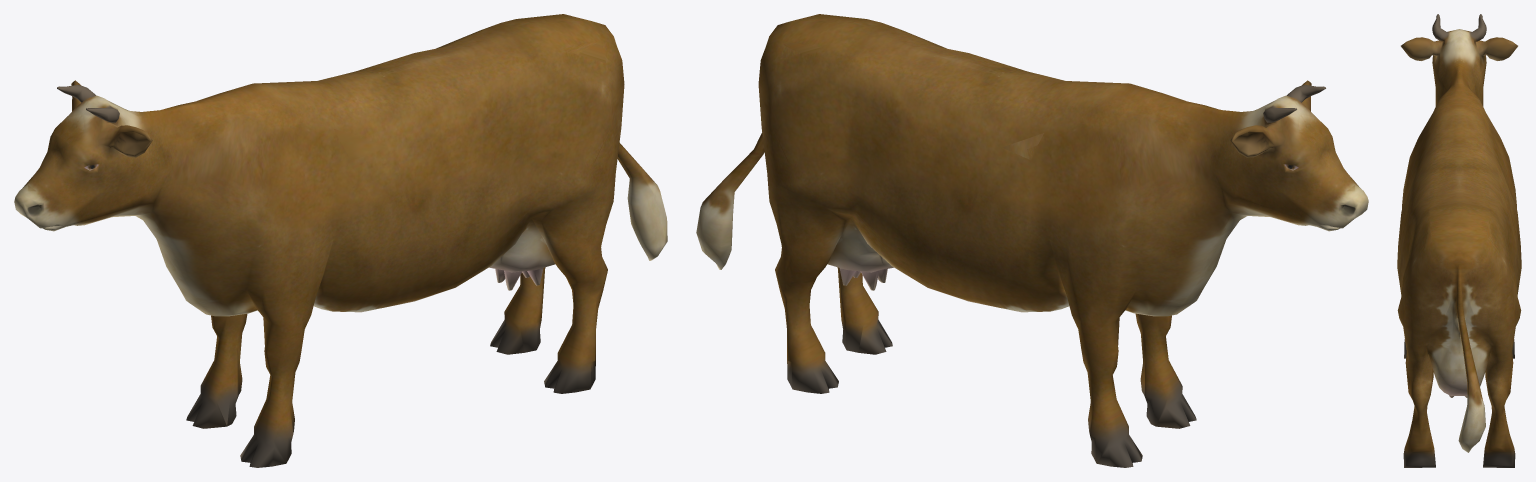
File: ZnamenskiMonastir.glb
3 views of the same model, side by side, from view 1: azimuth 30°, elevation 25°; view 2: azimuth 150°, elevation 25°; view 3: azimuth 270°, elevation 25° (orthographic). The views are drawn at different scales.
Parts seen in each view (by area): view 1: Cow_2; view 2: Cow_2; view 3: Cow_2.
Boxes of the visible parts, left/top/right/bottom form: Cow_2: left=14, top=14, right=667, bottom=467; Cow_2: left=696, top=14, right=1368, bottom=467; Cow_2: left=1397, top=14, right=1521, bottom=467.
Size of the model in its own units: 2.62 by 1.46 by 0.5865.
Materials: 1 (1 with a texture image).
